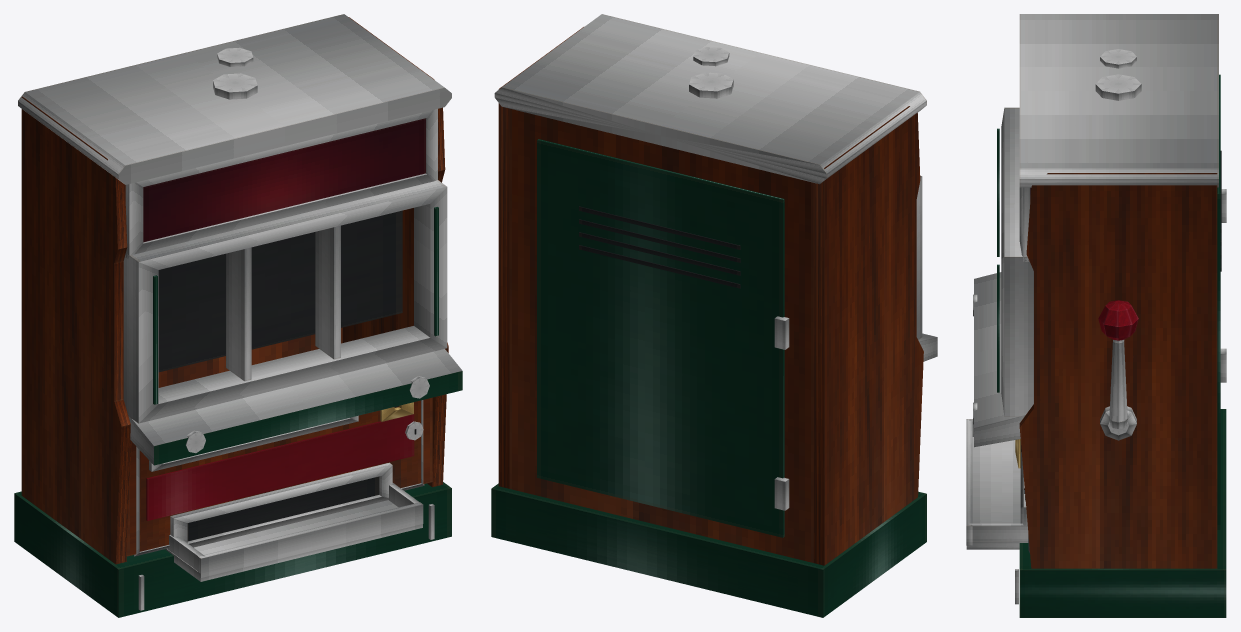
File: cabinet.glb
3 views of the same model, side by side, from view 1: azimuth 30°, elevation 25°; view 2: azimuth 150°, elevation 25°; view 3: azimuth 270°, elevation 25° (orthographic).
Visible parts, largest first — view 1: cabinet; view 2: cabinet; view 3: cabinet, lever.
Part boxes in pixels (bbox=[...]): cabinet: bbox=[14, 14, 462, 617]; cabinet: bbox=[491, 14, 937, 617]; cabinet: bbox=[966, 14, 1226, 617]; lever: bbox=[1098, 300, 1138, 428].
Bounding box in the file's own units: 2.34 × 3.01 × 1.47.
Materials: 1 (1 with a texture image).
